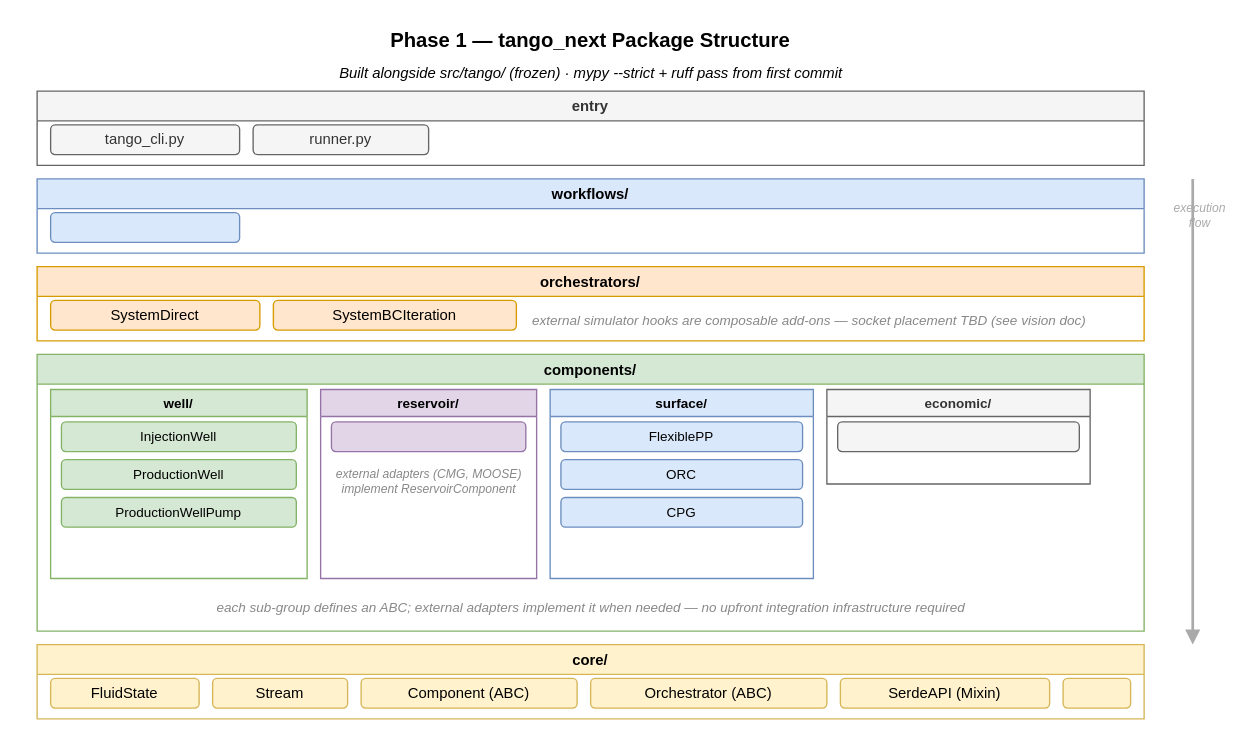
Some shapes in this 1256 by 743 pixel diagram are drawn without their labels. Each missing label, with the centre of its shape:
"EconomicUnit" belongs at (957,436).
"Init (Protocol)" belongs at (1096,692).
"Native" belongs at (428,436).
"Workflow" belongs at (144,226).
